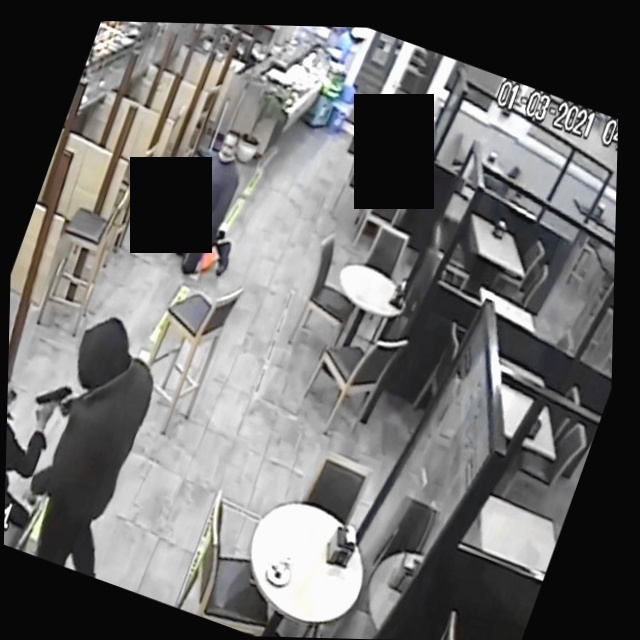gun: (21, 361, 84, 433)
